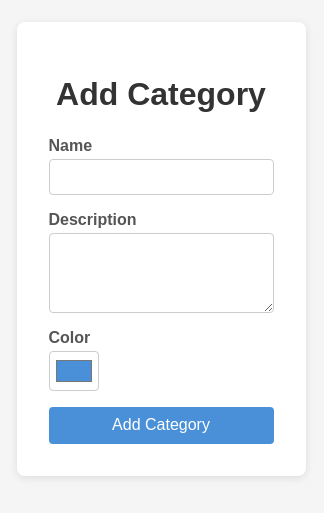
Test case: Add Category Page › should show error message on API failure
In the field labelled "Name": (161, 177) [48, 159, 274, 195], type "Test"
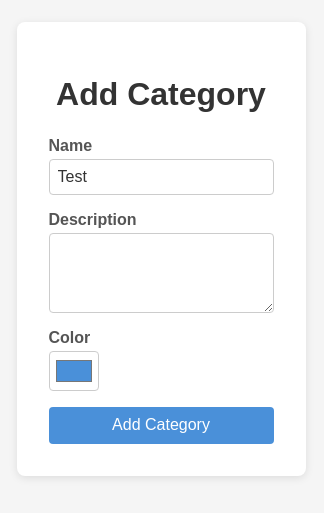
Submit the form from the button "Add Category", box [48, 407, 274, 444]
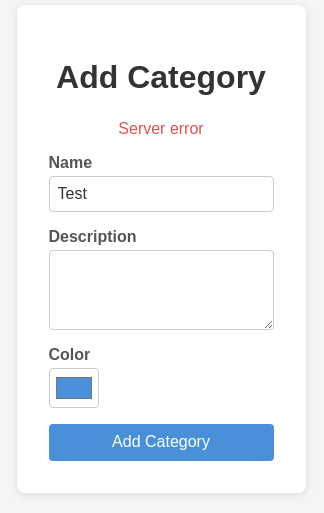
Result: the text "Server error" is shown at [118, 120, 204, 137]
